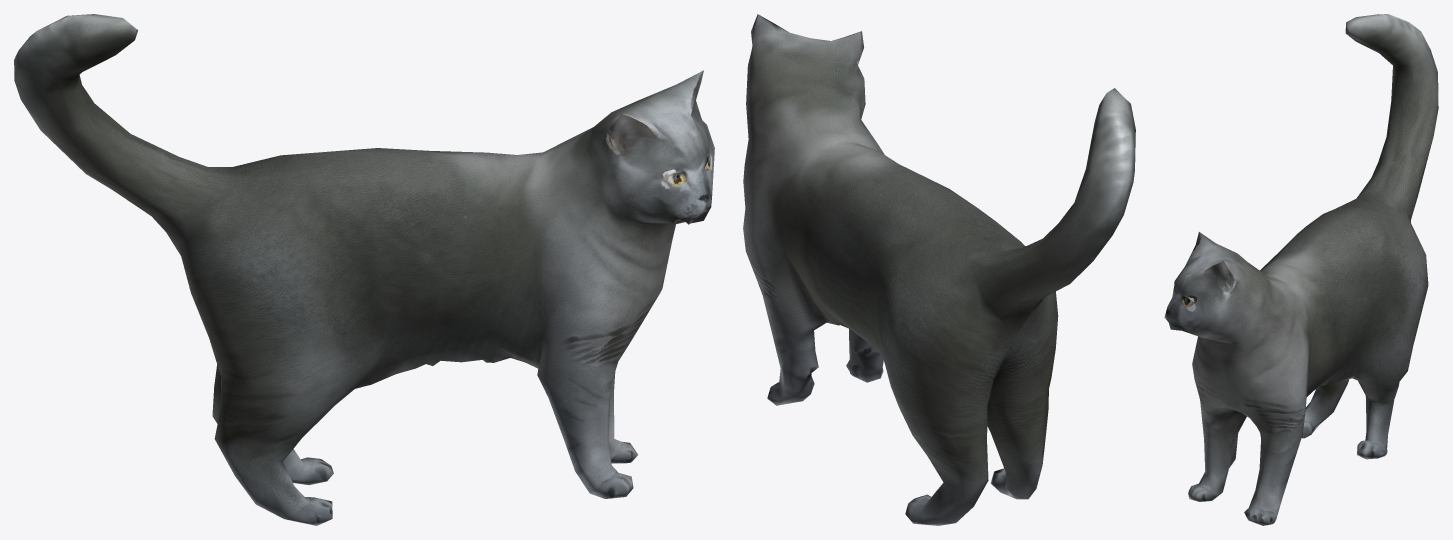
The model's file is cat_british_single_1500.glb.
3 views of the same model, side by side, from view 1: azimuth 30°, elevation 25°; view 2: azimuth 150°, elevation 25°; view 3: azimuth 270°, elevation 25° (orthographic). The views are drawn at different scales.
Size of the model in its own units: 0.8914 by 0.7905 by 0.5352.
1 material, 1 textured.
